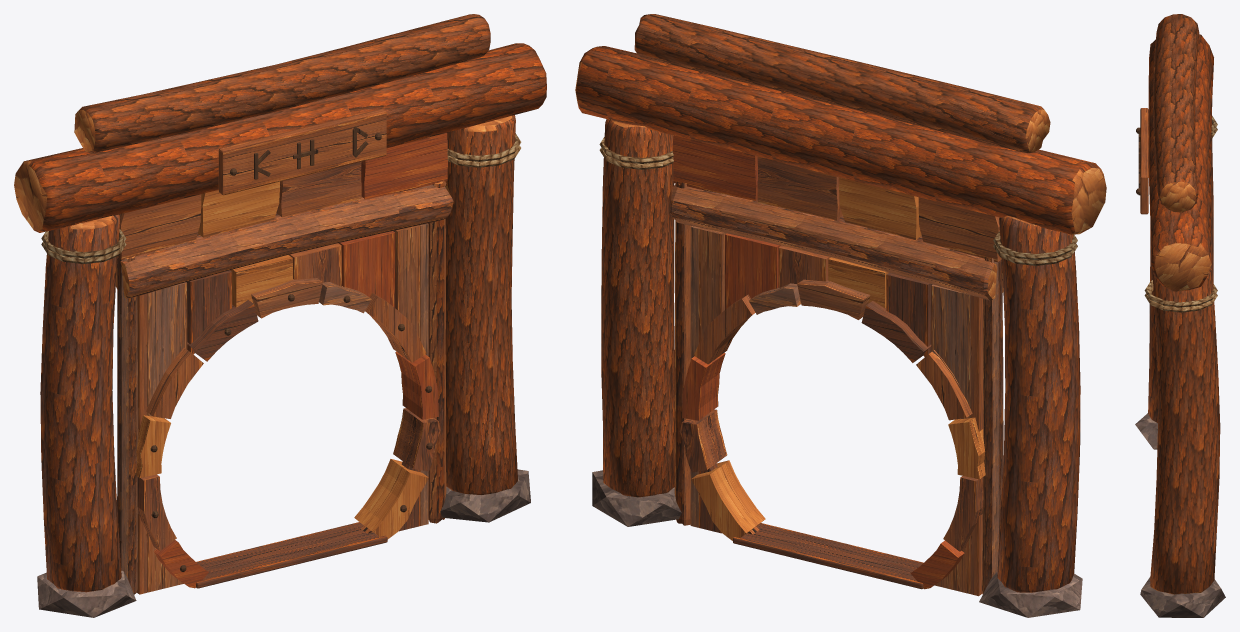
File: dungeon_entrance.glb
3 views of the same model, side by side, from view 1: azimuth 30°, elevation 25°; view 2: azimuth 150°, elevation 25°; view 3: azimuth 270°, elevation 25° (orthographic). The views are drawn at different scales.
Visible parts, largest first — view 1: model; view 2: model; view 3: model.
Part boxes in pixels (x1,y1,x2,y2): model: (14, 14, 546, 617); model: (575, 14, 1106, 617); model: (1135, 14, 1225, 617).
Size of the model in its own units: 3.07 by 2.89 by 0.5557.
Materials: 25 (25 with a texture image).
